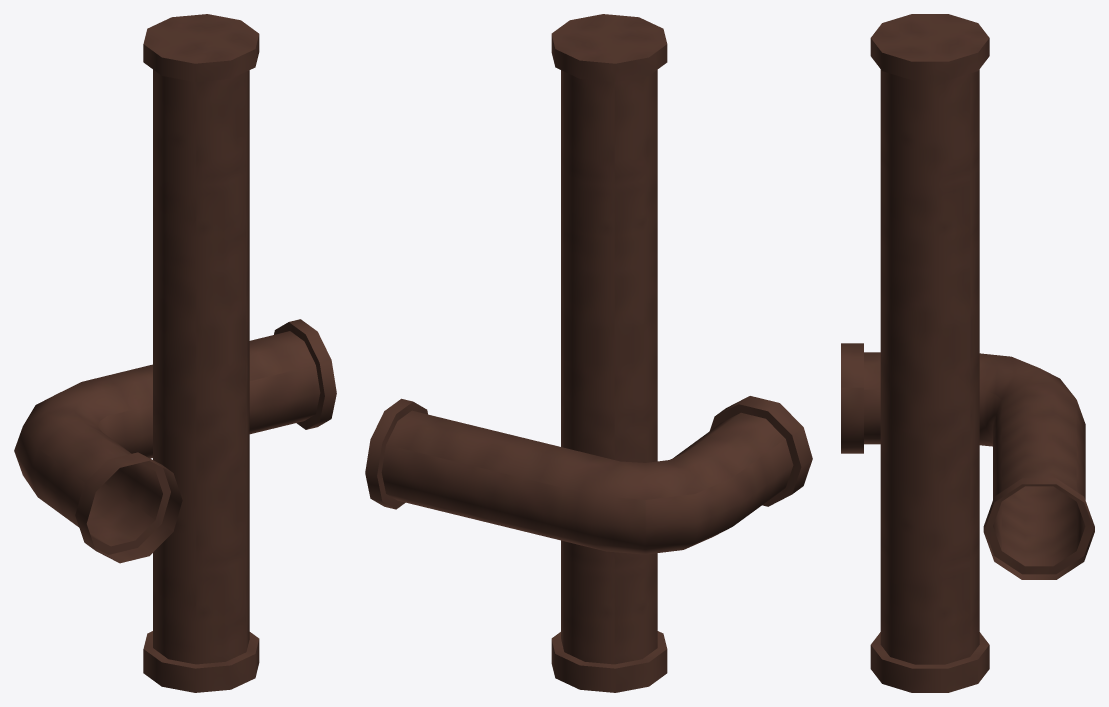
File: Pipes3.fbx
3 renders of one model, left to right at view 1: azimuth 30°, elevation 25°; view 2: azimuth 150°, elevation 25°; view 3: azimuth 270°, elevation 25°, orthographic.
Parts seen in each view (by area): view 1: Куб.006; view 2: Куб.006; view 3: Куб.006.
Part boxes in pixels (x1,y1,x2,y2): Куб.006: (14,14,336,692); Куб.006: (365,14,812,692); Куб.006: (841,14,1094,692).
Bounding box in the file's own units: 283 × 529 × 193.
